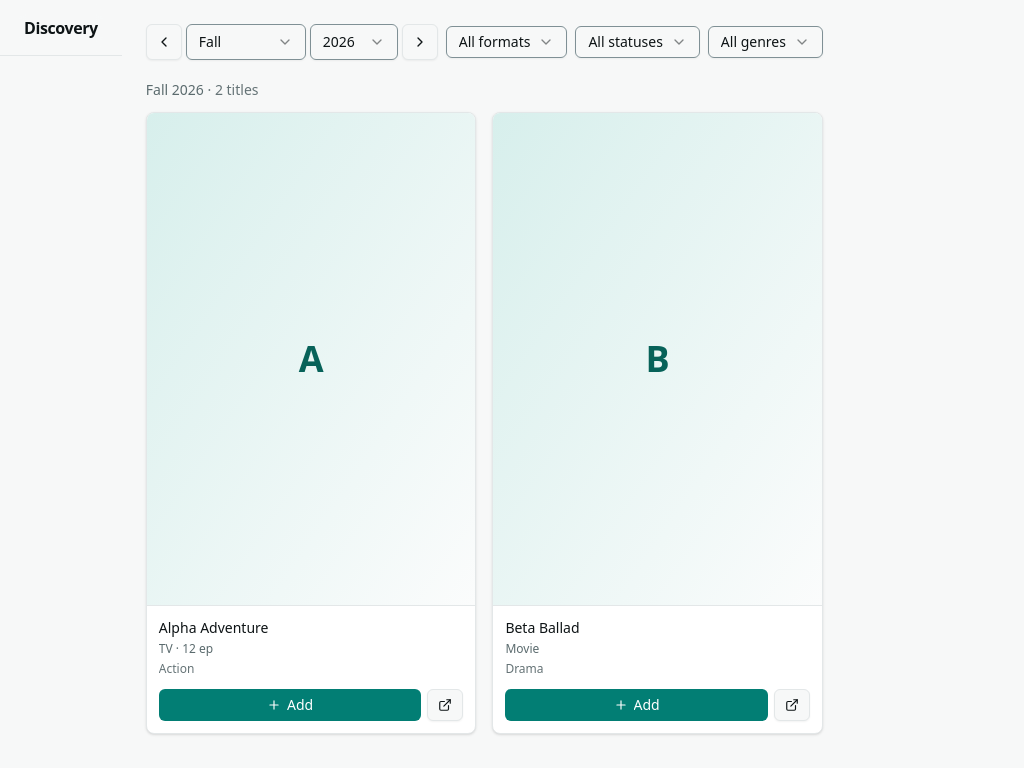
Test: DiscoveryPage › offers to clear filters that leave nothing to show
The width and height of the screenshot is (1024, 768).
Expected: the text "Alpha Adventure" is shown, [159,618,268,637]
Click the dropdown labelled "format" at x=507, y=42, box [446,26,567,58]
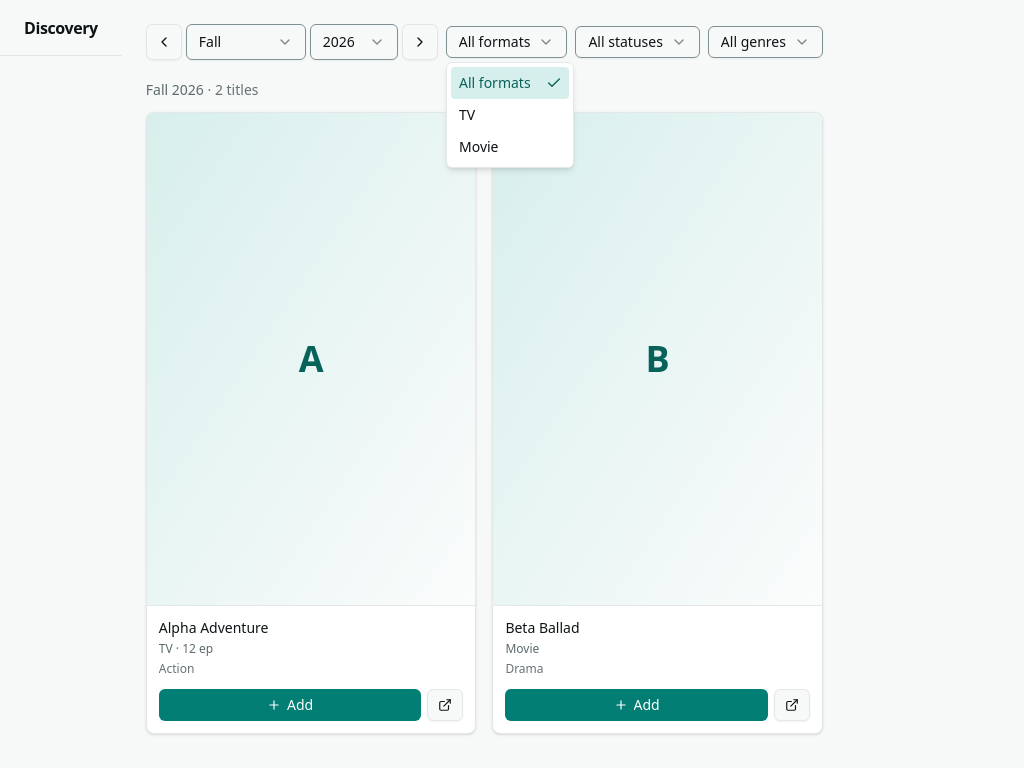
Click the option "TV" at x=467, y=114, box [459,105,475,124]
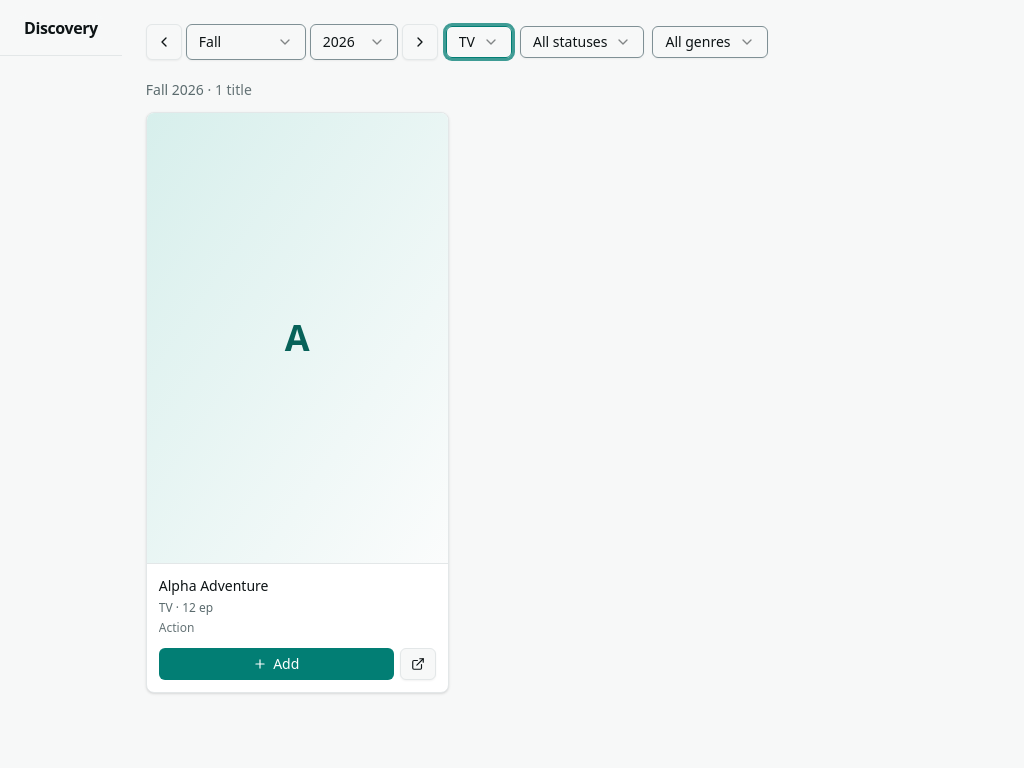
Click the dropdown labelled "genre" at x=710, y=42, box [652,26,768,58]
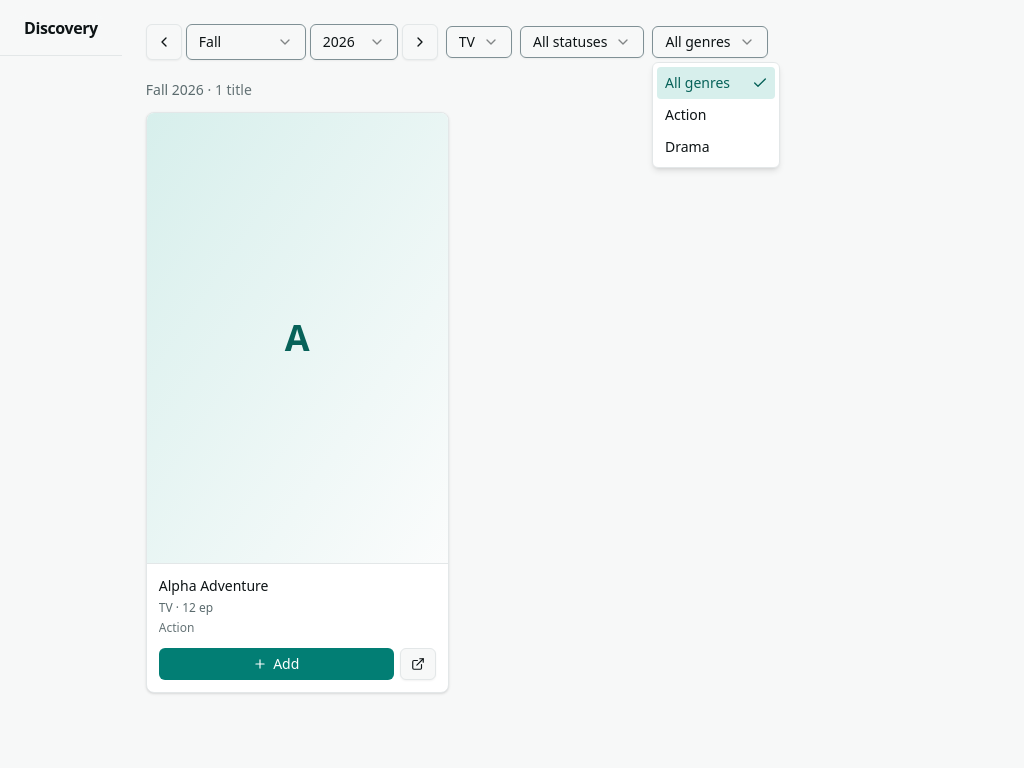
Click the option "Drama" at x=687, y=146, box [665,137,710,156]
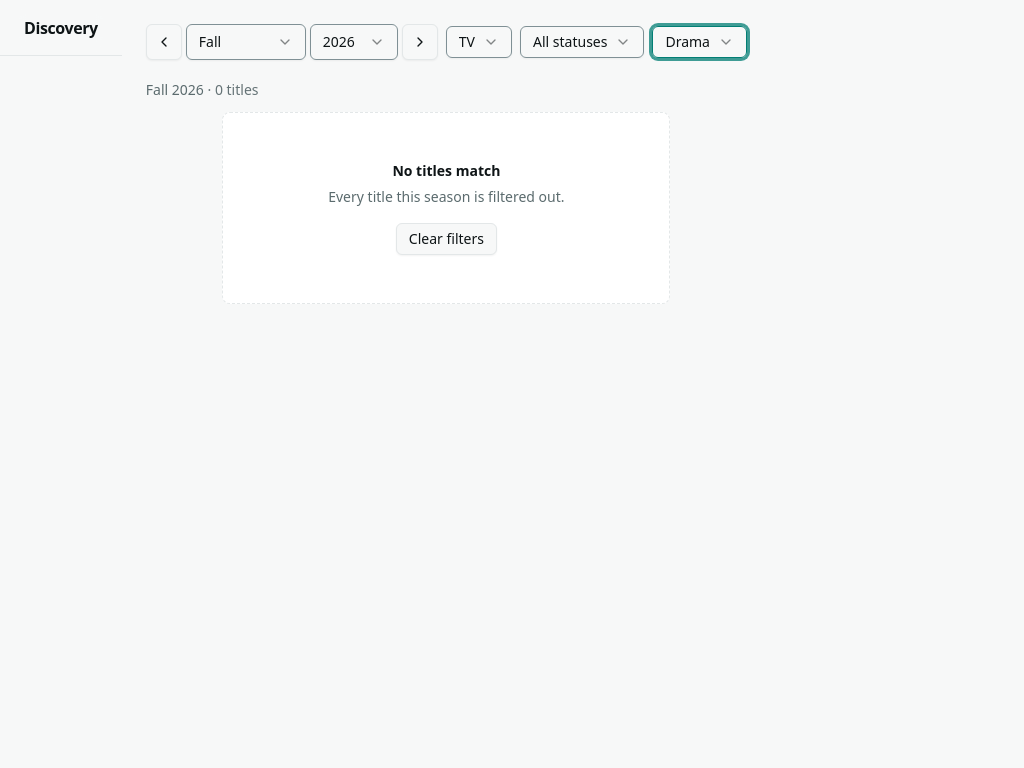
Now the heading "No titles match" is shown, box [392,161,500,181]
Now the text "Every title this season is filtered out." is shown, box [328,187,564,207]
Click the button "Clear filters" at x=446, y=239, box [396,223,497,255]
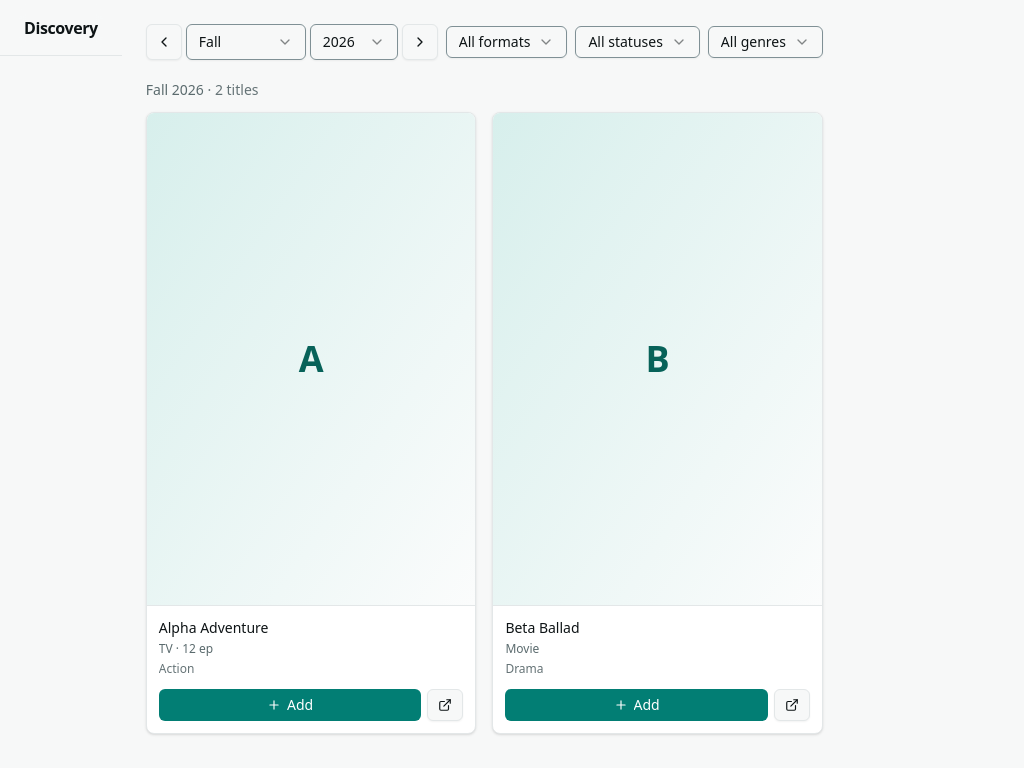
Now the text "Beta Ballad" is shown, box [505,618,580,637]
Now the text "Alpha Adventure" is shown, box [159,618,268,637]
